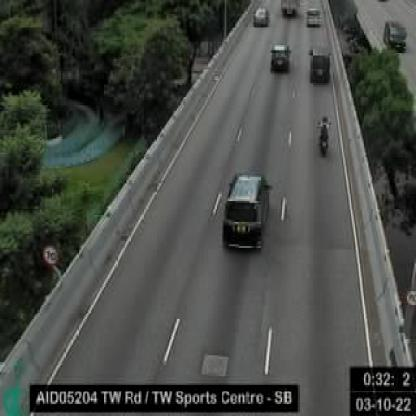Car: (221, 172, 270, 246), (308, 43, 332, 85), (268, 43, 288, 71), (251, 7, 268, 24), (306, 7, 318, 26)
